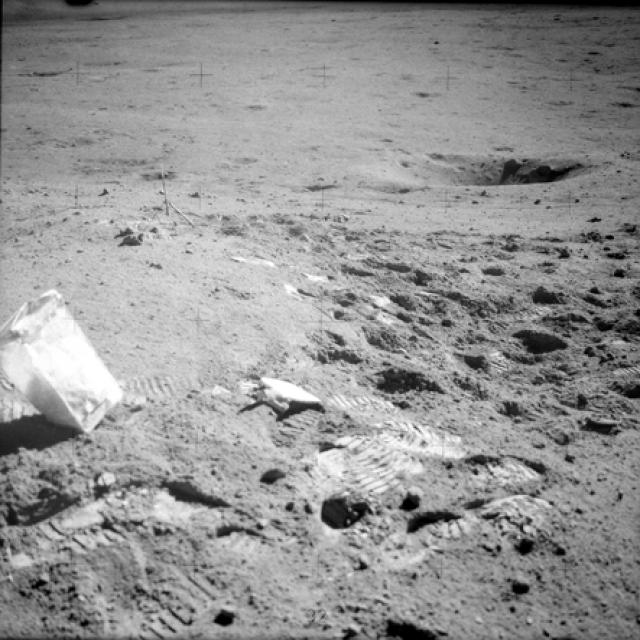artifact: (1, 290, 133, 434), (132, 144, 207, 231)
crater: (397, 149, 595, 193)
